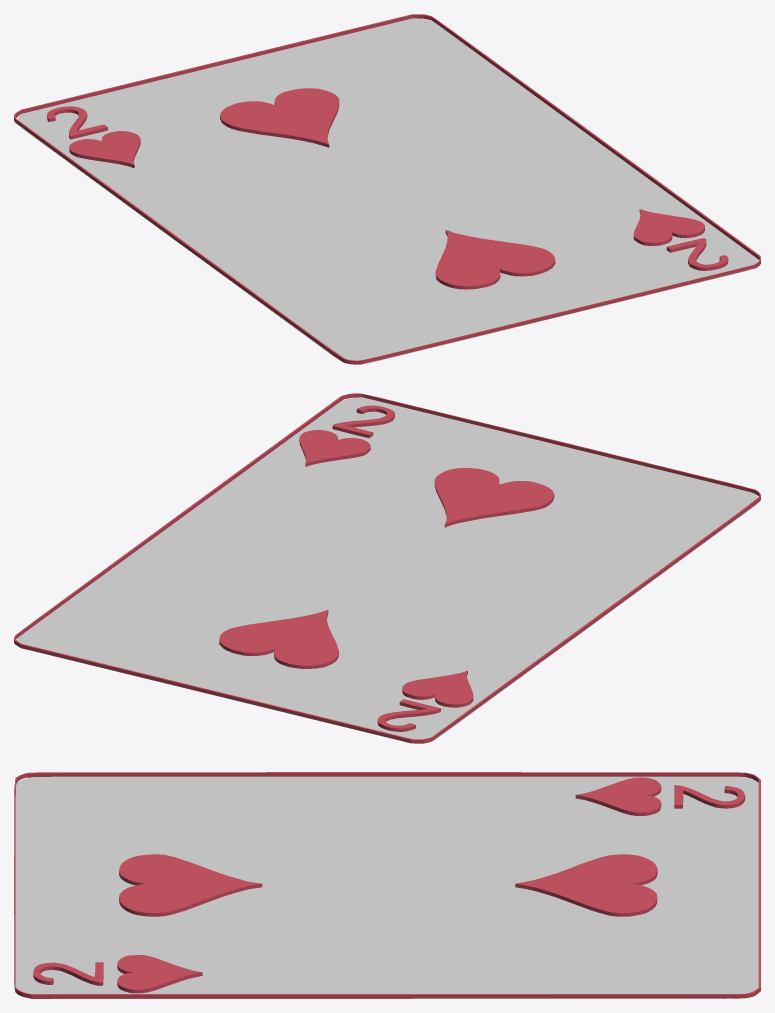
File: 2_hearts.glb
3 views of the same model, one above another, from view 1: azimuth 30°, elevation 25°; view 2: azimuth 150°, elevation 25°; view 3: azimuth 270°, elevation 25° (orthographic). The views are drawn at different scales.
Parts seen in each view (by area): view 1: Mesh_Mesh_head_geo.001_lambert2SG.001; view 2: Mesh_Mesh_head_geo.001_lambert2SG.001; view 3: Mesh_Mesh_head_geo.001_lambert2SG.001.
Part boxes in pixels (x1,y1,x2,y2): Mesh_Mesh_head_geo.001_lambert2SG.001: [14, 14, 760, 364]; Mesh_Mesh_head_geo.001_lambert2SG.001: [14, 393, 760, 743]; Mesh_Mesh_head_geo.001_lambert2SG.001: [14, 772, 760, 998].
Bounding box in the file's own units: 1.2 × 0.01 × 1.7.
